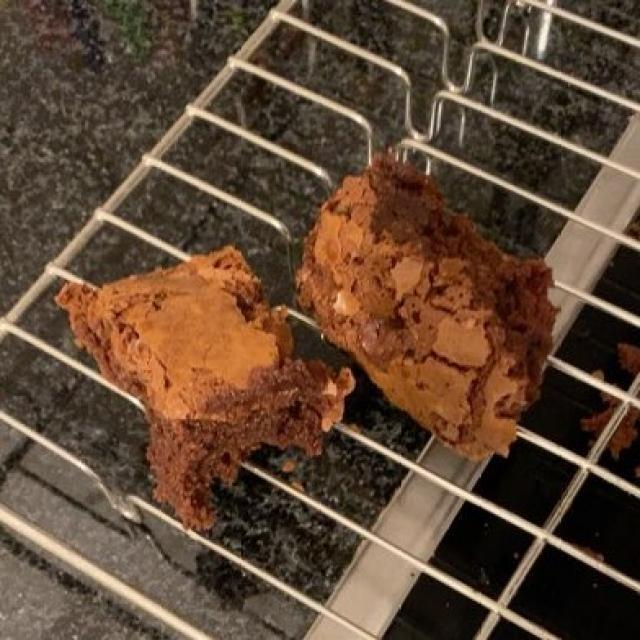cake: (62, 150, 570, 526)
